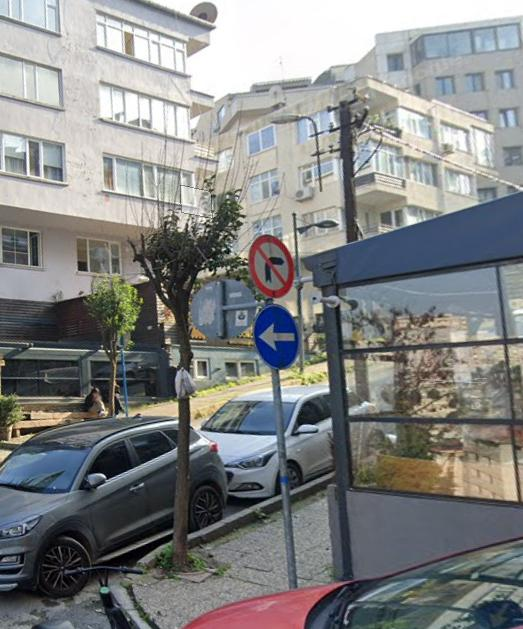rightturnsareforbidden: (252, 235, 292, 294)
turnleft: (254, 304, 299, 365)
